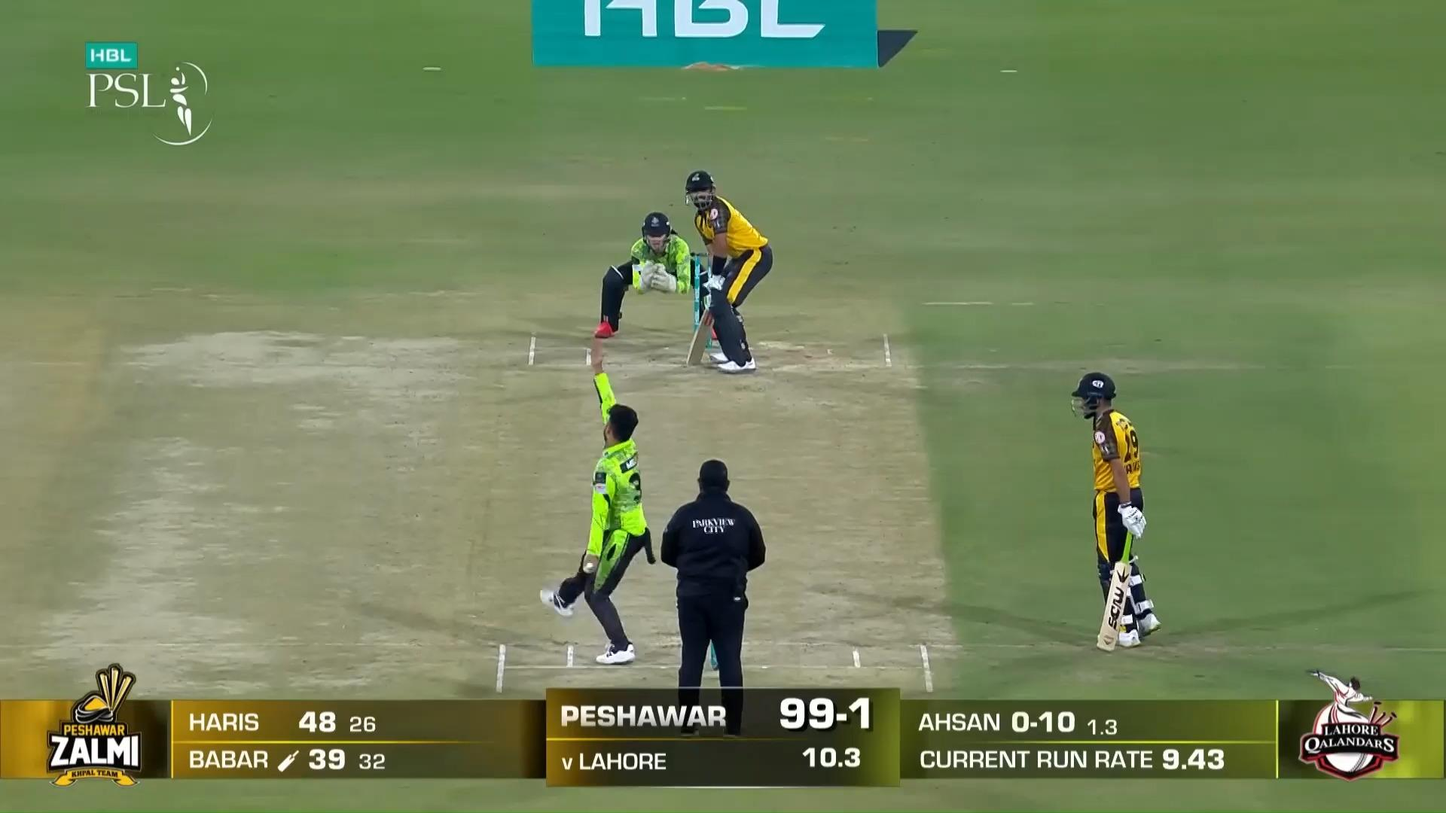batsman: (684, 169, 773, 374)
